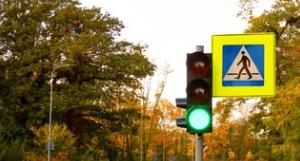green_light: (186, 52, 212, 133)
